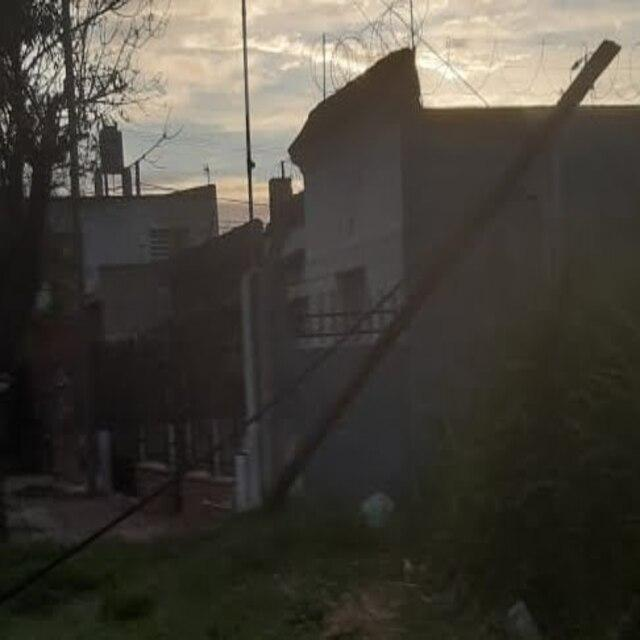Inclined Pole: (256, 39, 623, 501)
